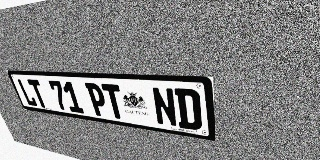1: (60, 81, 84, 114)
7: (47, 80, 71, 112)
D: (174, 88, 202, 131)
L: (16, 79, 38, 107)
N: (151, 87, 178, 127)
P: (85, 83, 110, 117)
T: (101, 84, 127, 120), (27, 79, 49, 108)
